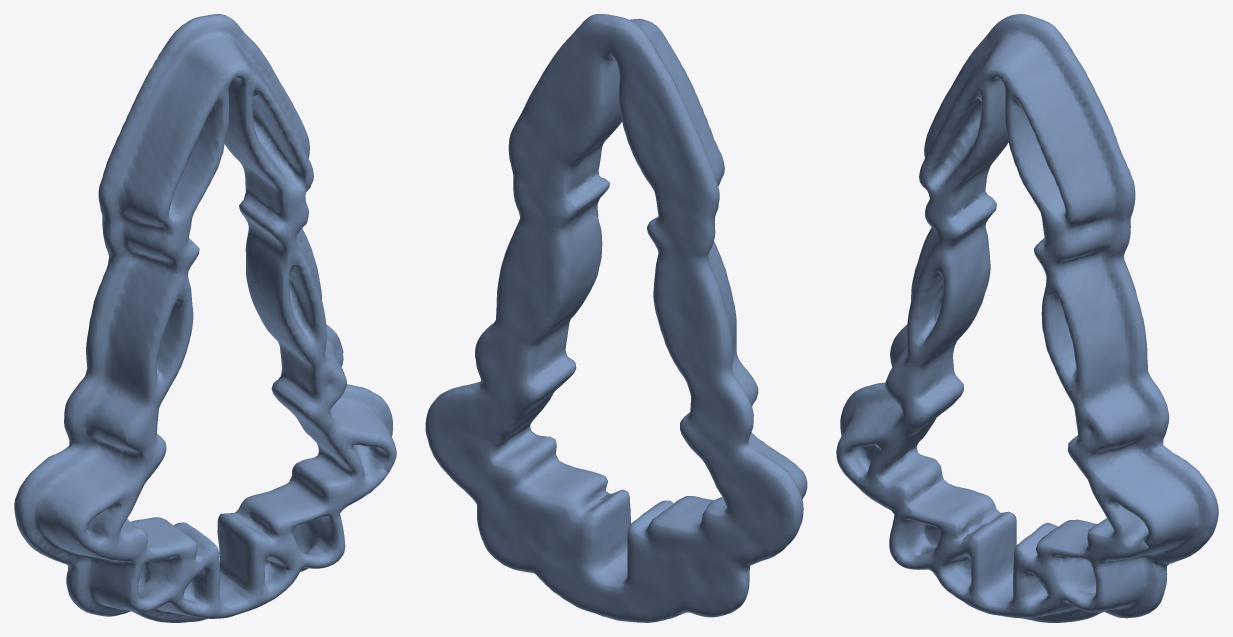
File: abc1_ours.glb
3 views of the same model, side by side, from view 1: azimuth 30°, elevation 25°; view 2: azimuth 150°, elevation 25°; view 3: azimuth 330°, elevation 25° (orthographic).
Visible parts, largest first — view 1: D:/tensorflow-code/NeuralPull_local/vis/abc/NerualPull_local; view 2: D:/tensorflow-code/NeuralPull_local/vis/abc/NerualPull_local; view 3: D:/tensorflow-code/NeuralPull_local/vis/abc/NerualPull_local.
Boxes of the visible parts, x1,y1,x2,y2 form: D:/tensorflow-code/NeuralPull_local/vis/abc/NerualPull_local: [14, 14, 396, 622]; D:/tensorflow-code/NeuralPull_local/vis/abc/NerualPull_local: [425, 14, 807, 622]; D:/tensorflow-code/NeuralPull_local/vis/abc/NerualPull_local: [836, 14, 1218, 622].
Bounding box in the file's own units: 0.7024 × 1.08 × 0.1388.
